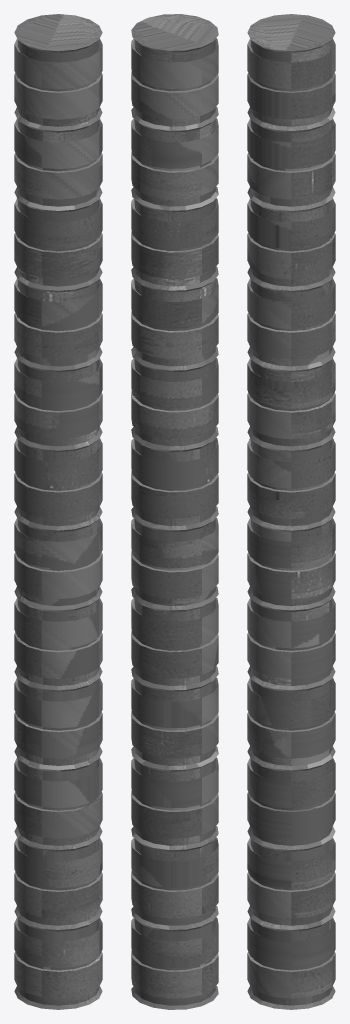
File: rohr.obj
3 views of the same model, side by side, from view 1: azimuth 90°, elevation 25°; view 2: azimuth 150°, elevation 25°; view 3: azimuth 270°, elevation 25° (orthographic).
Parts seen in each view (by area): view 1: rohre3_Cylinder.020; view 2: rohre3_Cylinder.020; view 3: rohre3_Cylinder.020.
Part boxes in pixels (x1,y1,x2,y2): rohre3_Cylinder.020: [14, 14, 102, 1009]; rohre3_Cylinder.020: [131, 14, 218, 1009]; rohre3_Cylinder.020: [247, 14, 335, 1009].
Bounding box in the file's own units: 3.7 × 44.41 × 3.7.
